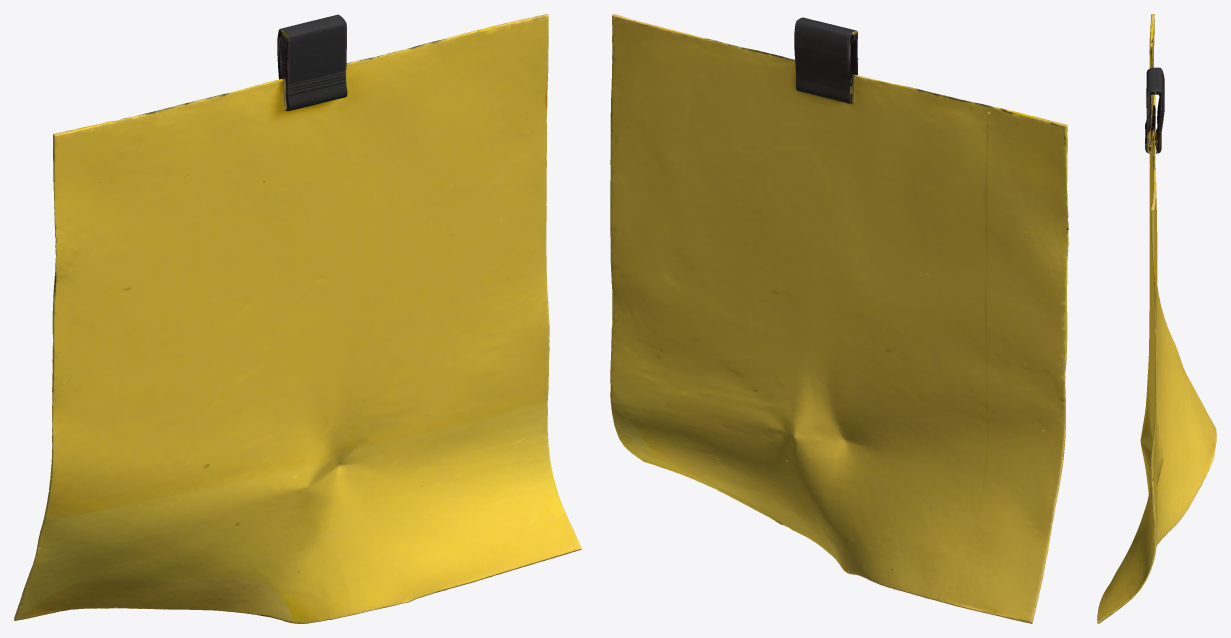
The model's file is create_a_yellow_note_1028054106_texture.fbx.
3 renders of one model, left to right at view 1: azimuth 30°, elevation 25°; view 2: azimuth 150°, elevation 25°; view 3: azimuth 270°, elevation 25°, orthographic. The views are drawn at different scales.
Visible parts, largest first — view 1: input; view 2: input; view 3: input.
Boxes of the visible parts, bbox=[...] form: input: bbox=[14, 14, 581, 623]; input: bbox=[610, 14, 1068, 623]; input: bbox=[1097, 14, 1216, 623].
Bounding box in the file's own units: 167 × 190 × 42.82.
1 material, 1 textured.
